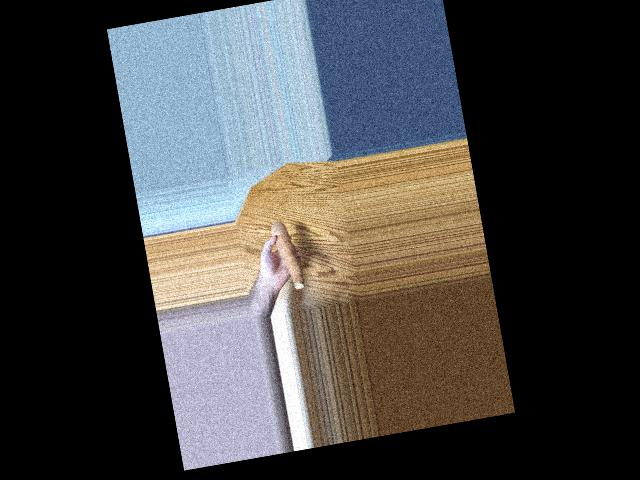sweet_potato: (271, 214, 305, 289)
